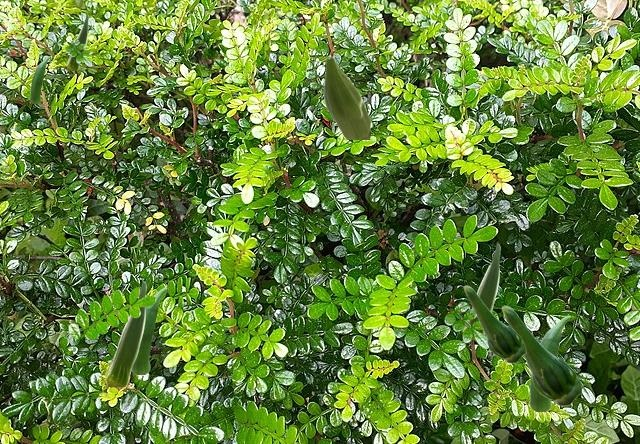okra: (501, 305, 581, 405), (463, 285, 525, 362), (105, 281, 145, 385), (529, 315, 569, 410), (323, 56, 369, 138), (462, 243, 499, 332), (132, 287, 166, 373), (66, 14, 87, 69), (30, 56, 49, 102)
